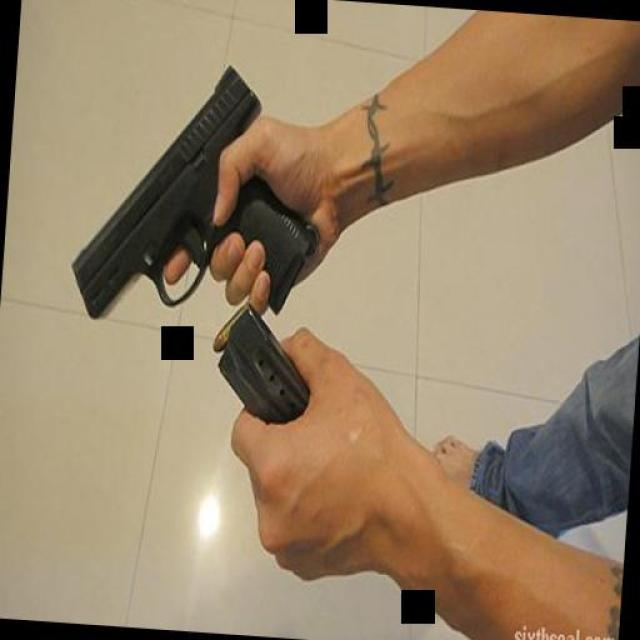gun: (69, 50, 330, 336)
